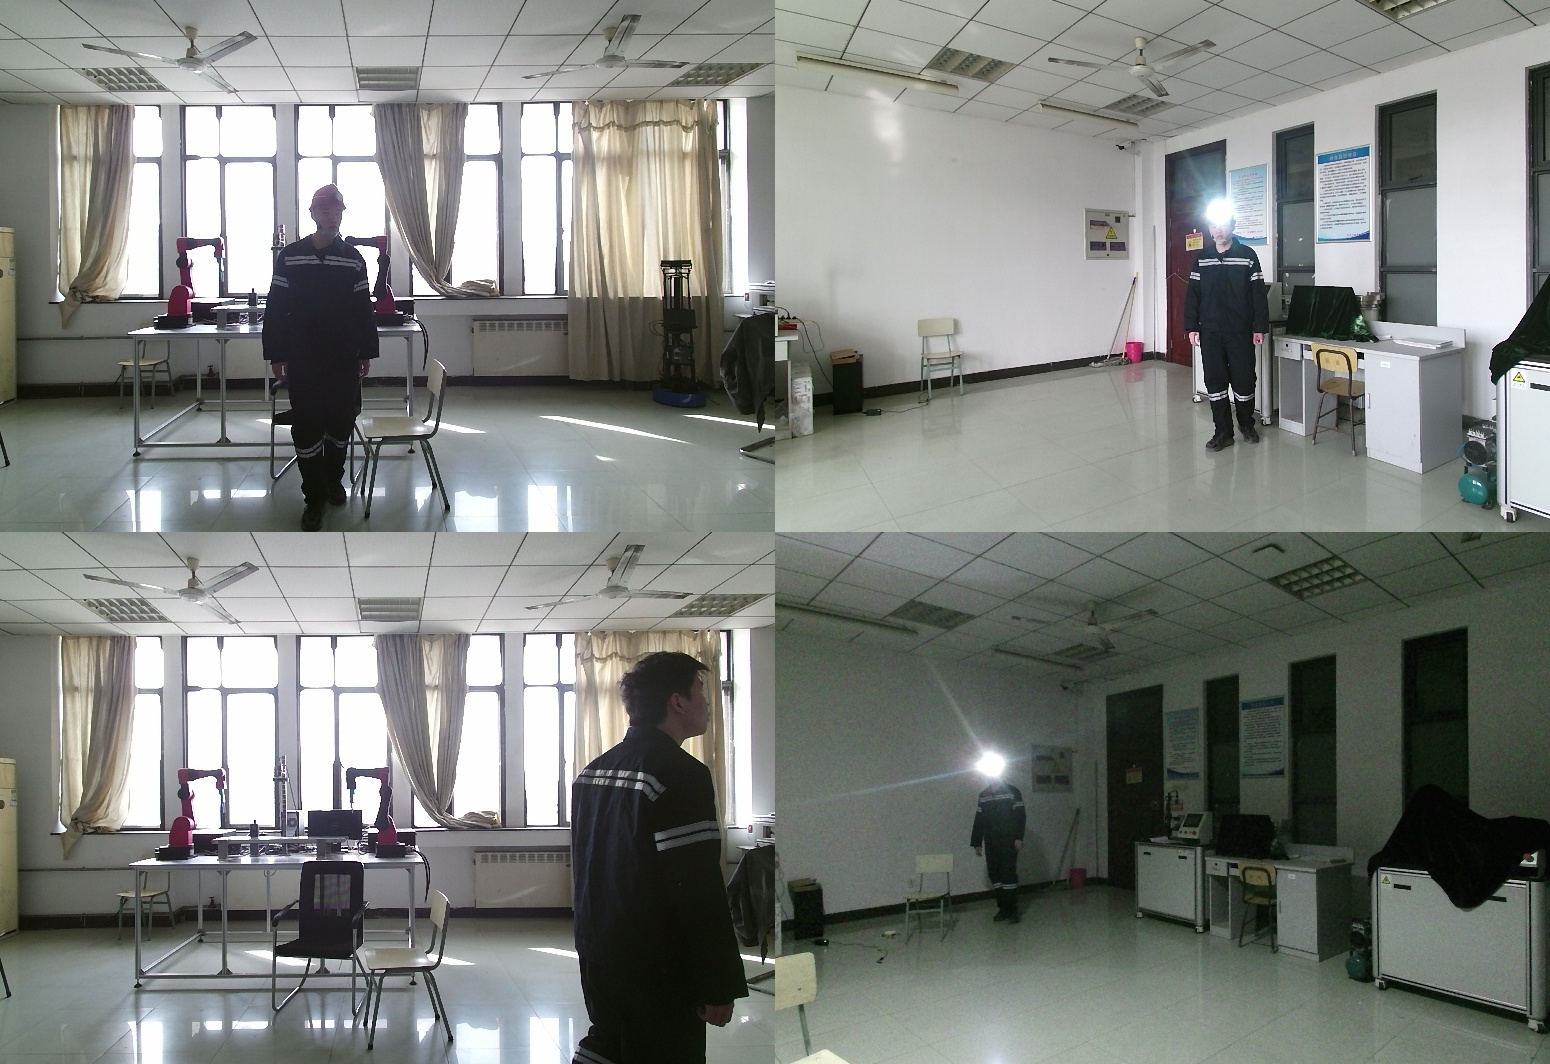person: (573, 654, 763, 1064), (262, 184, 387, 532), (1191, 205, 1281, 452), (969, 758, 1037, 928)
